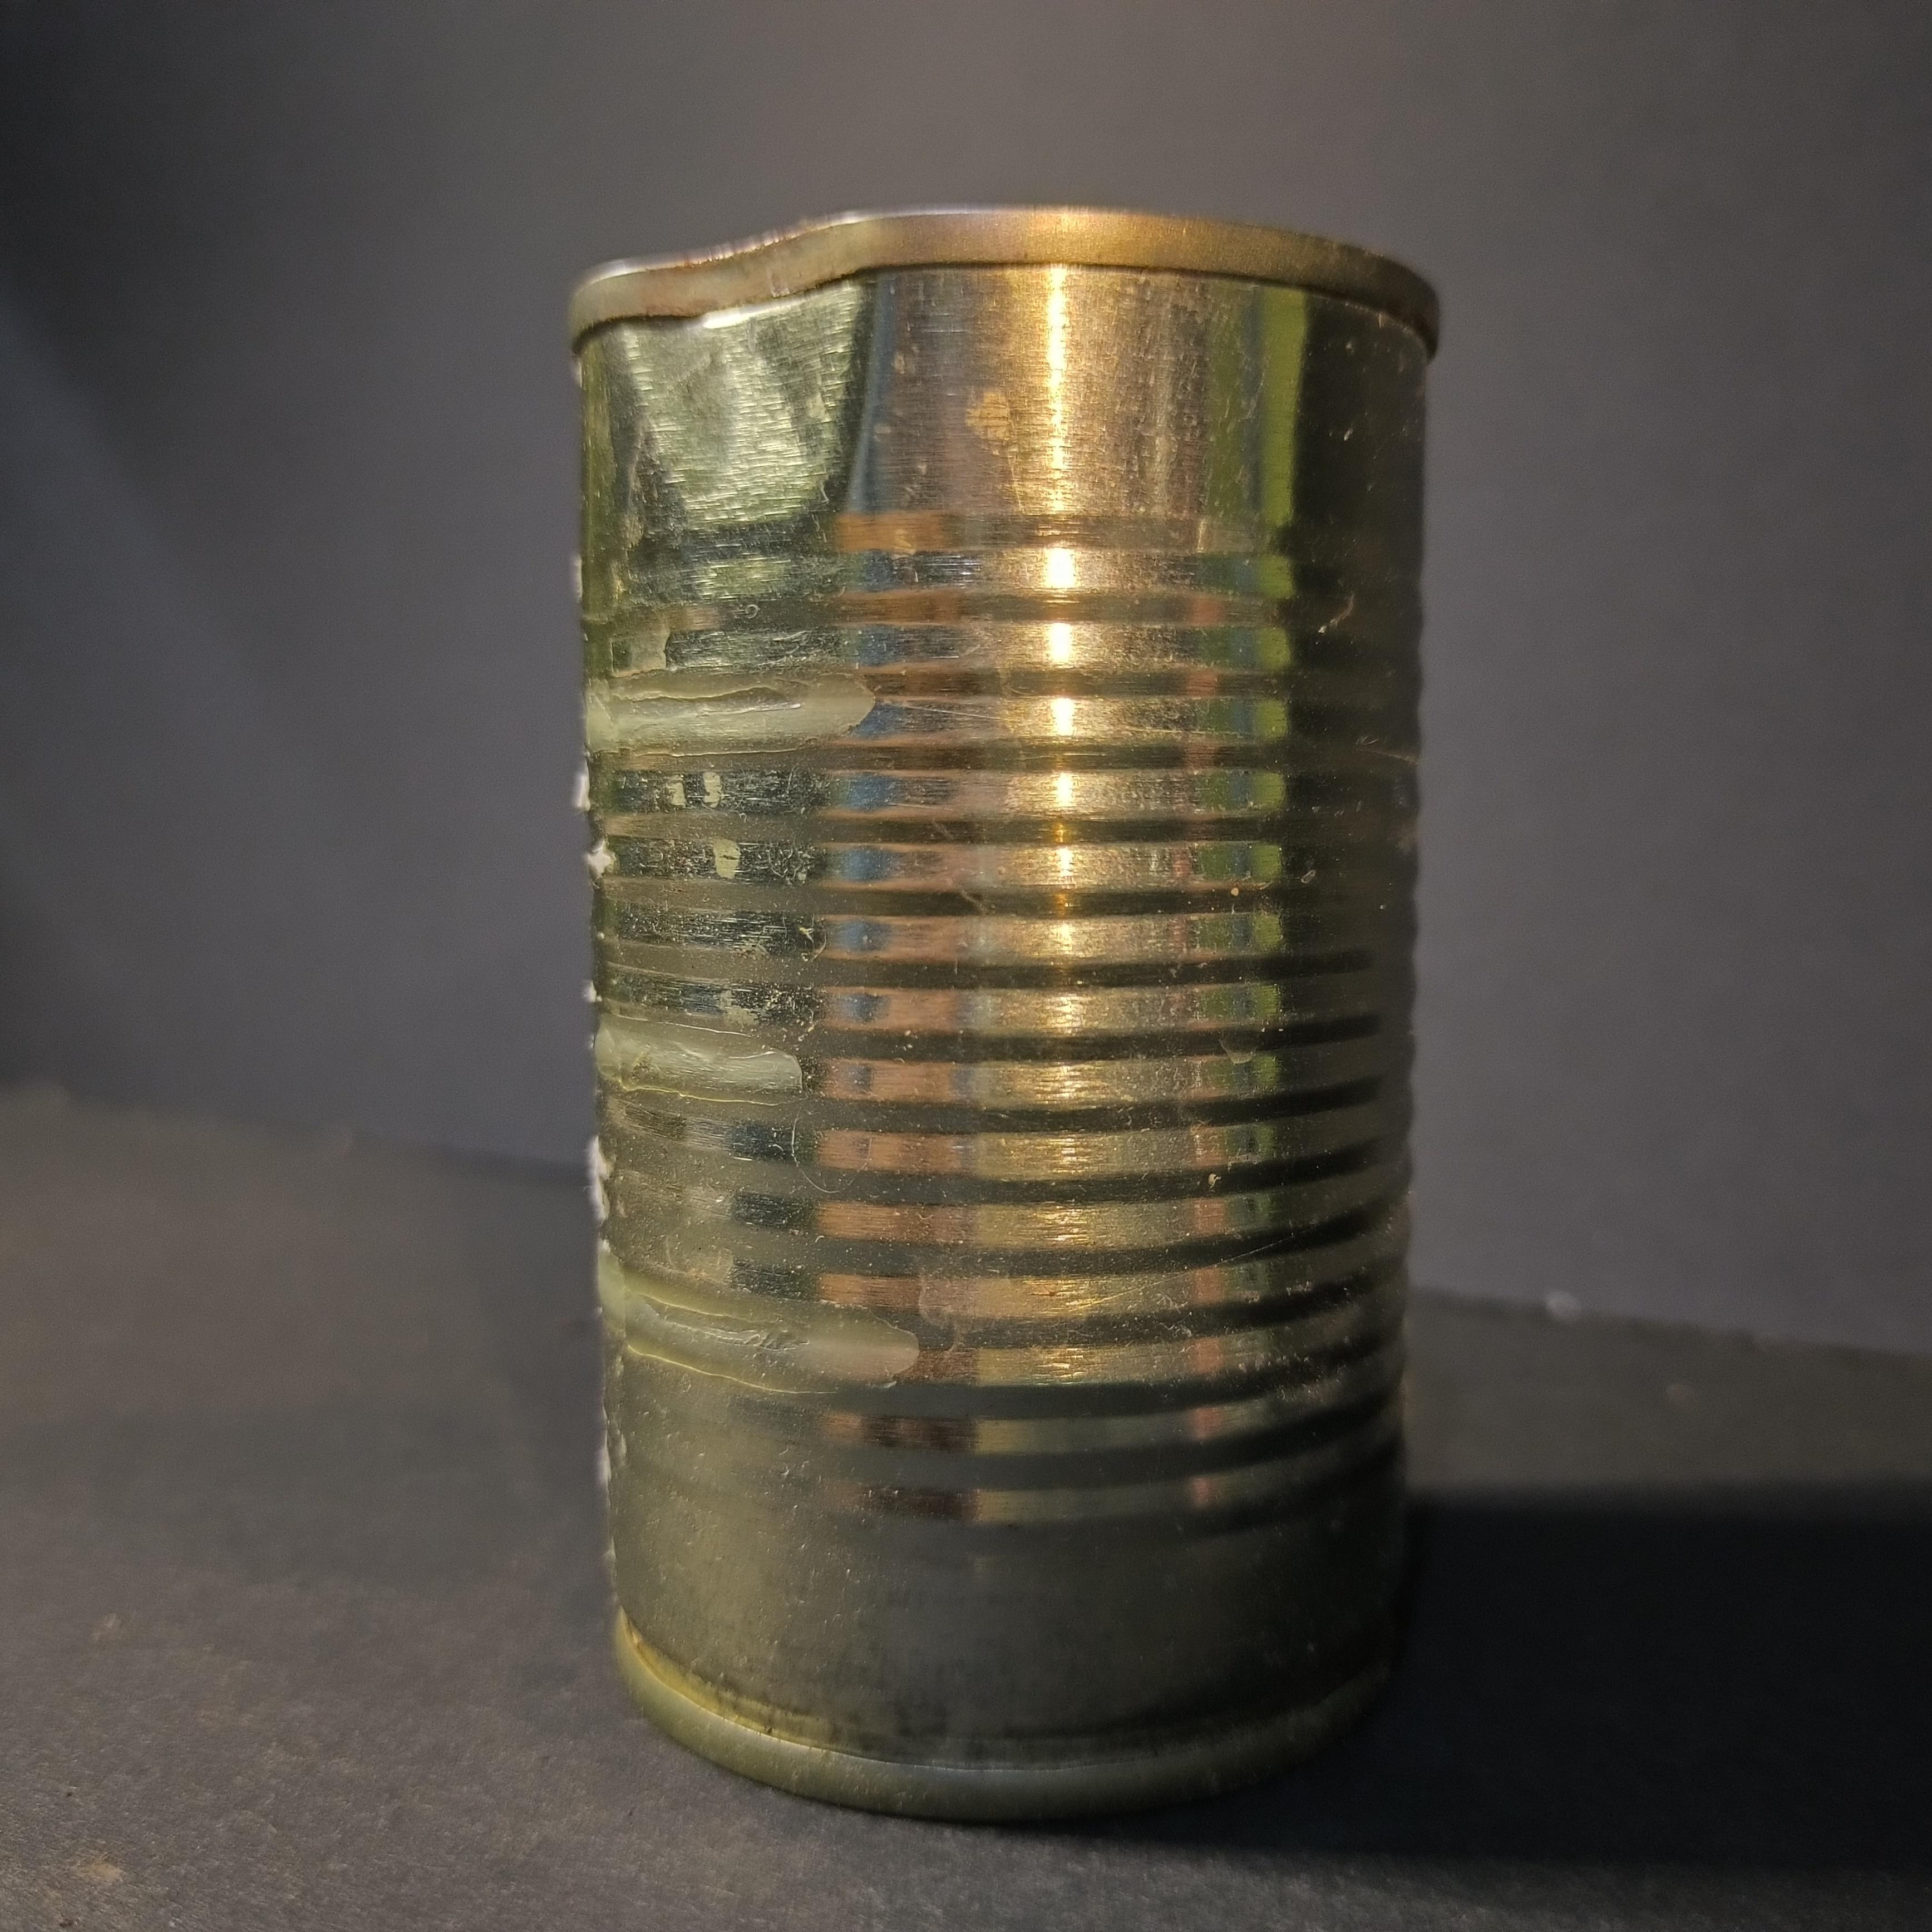Dented: (548, 175, 1463, 1817)
